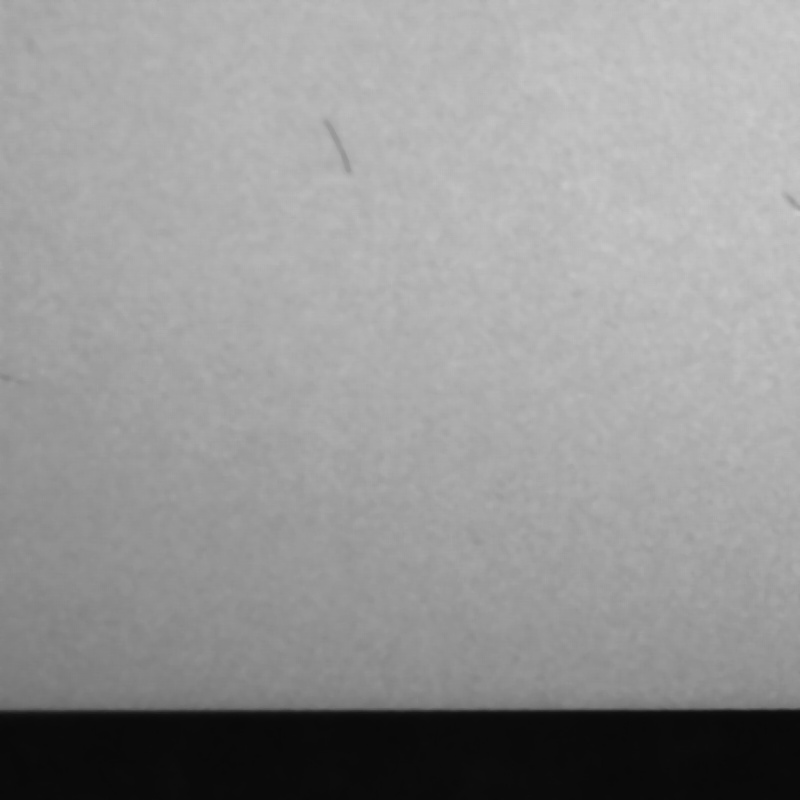defect: (320, 114, 356, 181), (781, 186, 800, 216)
